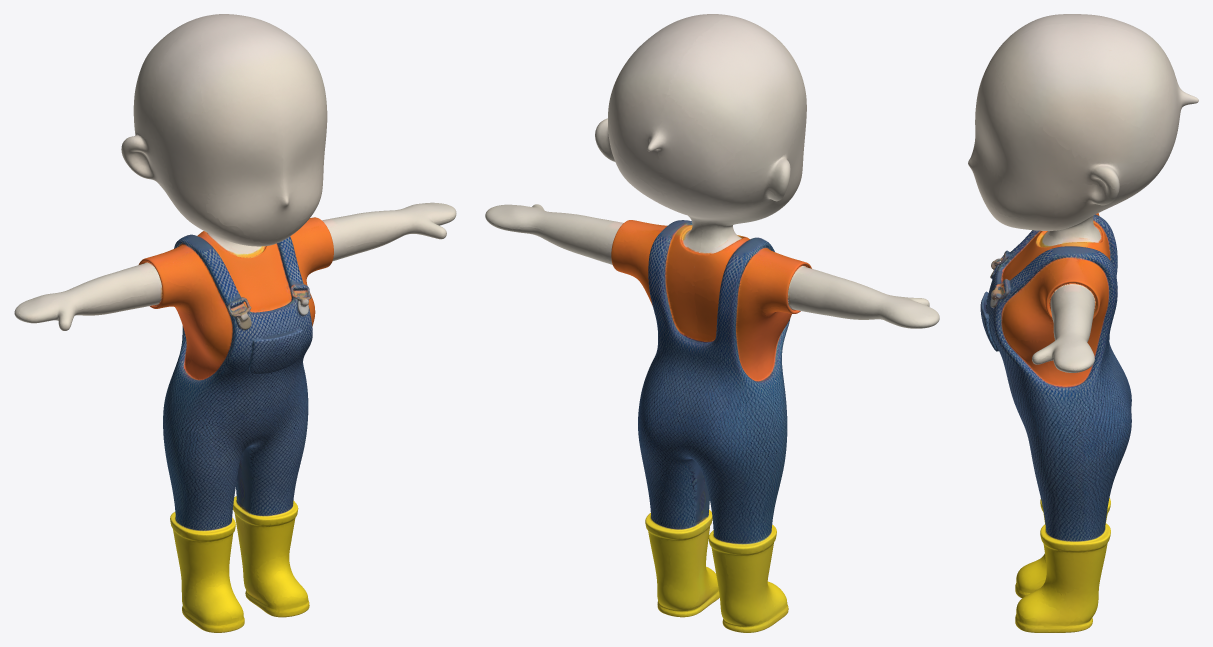
The model's file is baked_outfit_overalls.glb.
3 renders of one model, left to right at view 1: azimuth 30°, elevation 25°; view 2: azimuth 150°, elevation 25°; view 3: azimuth 270°, elevation 25°, orthographic. The views are drawn at different scales.
Bounding box in the file's own units: 1.51 × 1.9 × 0.6808.
Materials: 1 (1 with a texture image).
